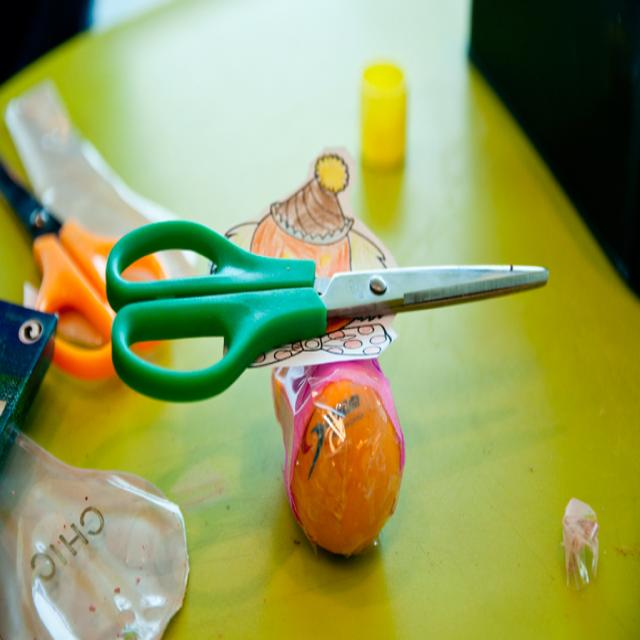scissors: (105, 218, 549, 403), (0, 153, 172, 380)
